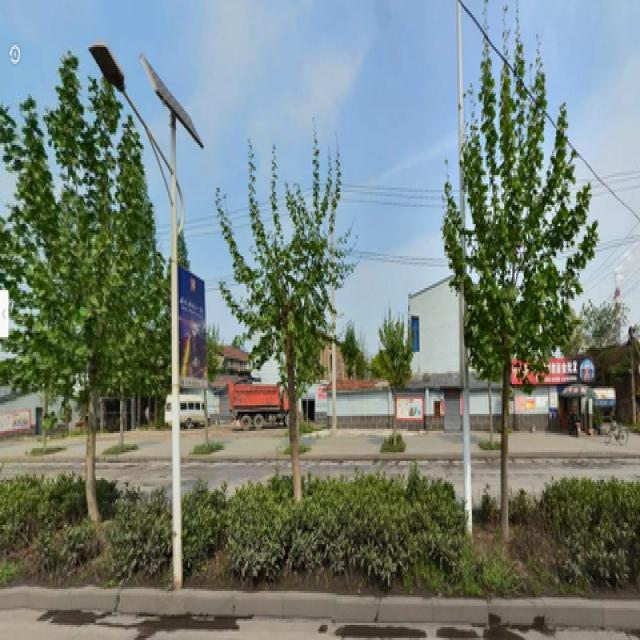meta: (421, 30, 592, 529)
